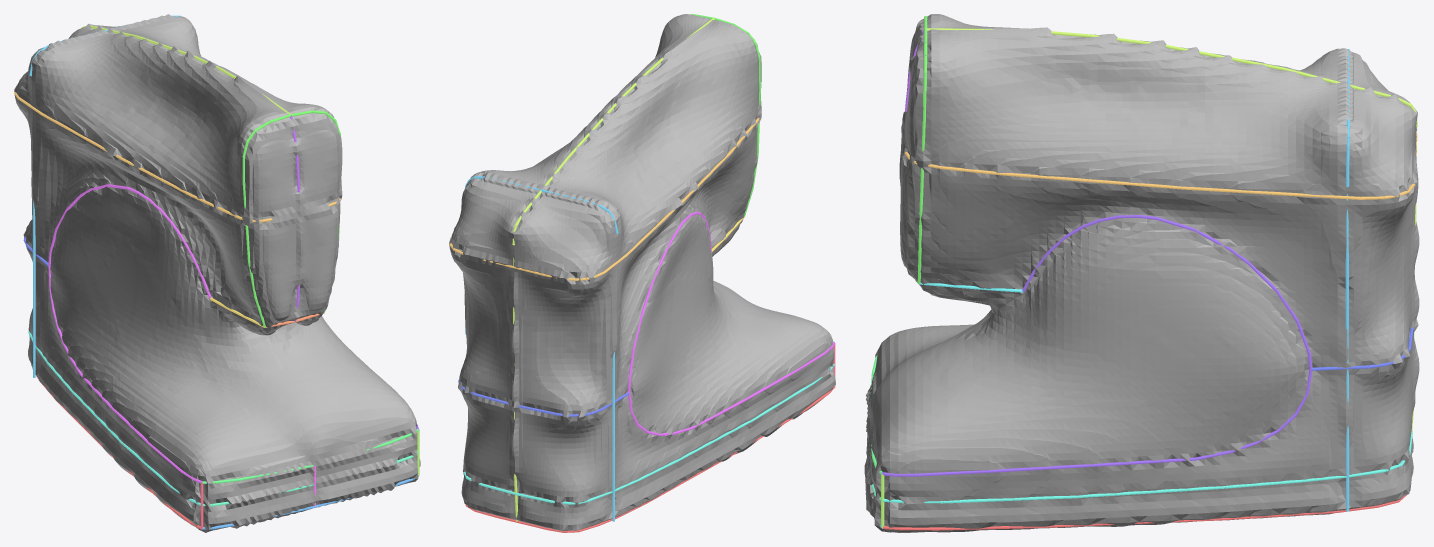
File: t2f_sewing_machine.gltf
The picture shows the model from 3 angles, left to right: view 1: azimuth 30°, elevation 25°; view 2: azimuth 150°, elevation 25°; view 3: azimuth 270°, elevation 25°; orthographic projection. The views are drawn at different scales.
Size of the model in its own units: 0.3902 by 0.6322 by 0.7003.
